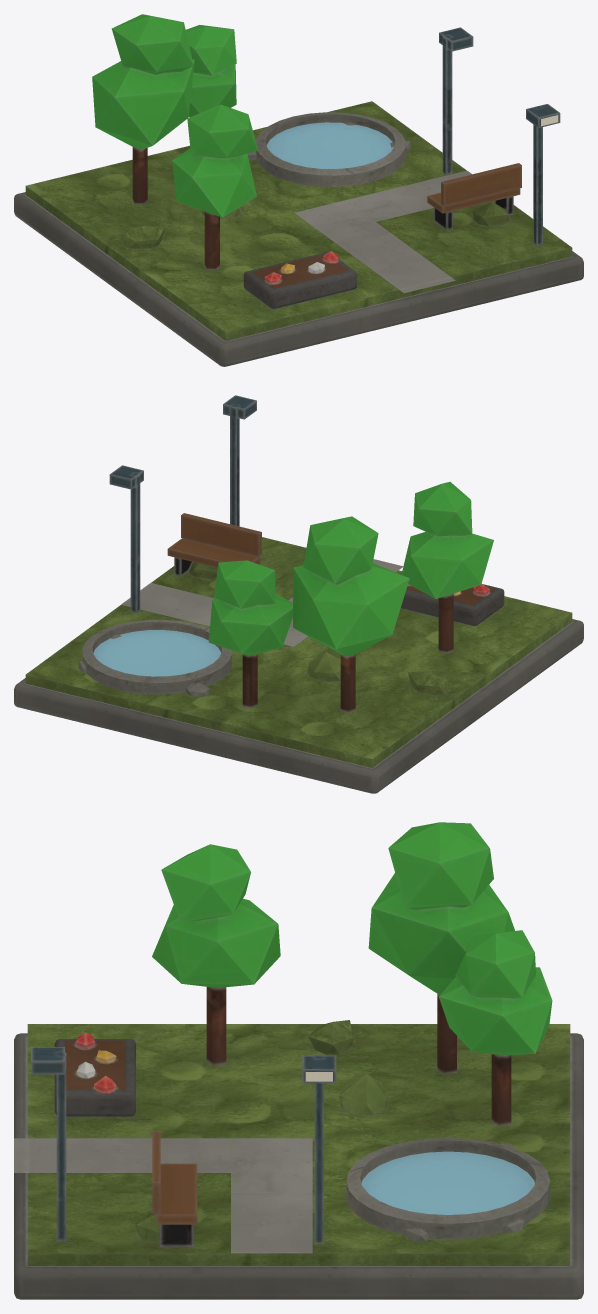
File: park_module.glb
The picture shows the model from 3 angles, top to bottom: view 1: azimuth 30°, elevation 25°; view 2: azimuth 150°, elevation 25°; view 3: azimuth 270°, elevation 25°; orthographic projection. The views are drawn at different scales.
Parts seen in each view (by area): view 1: te_park_module; view 2: te_park_module; view 3: te_park_module.
Part boxes in pixels (x1=…): te_park_module: x1=14, y1=14, x2=583, y2=366; te_park_module: x1=14, y1=395, x2=583, y2=793; te_park_module: x1=14, y1=822, x2=583, y2=1299.
Size of the model in its own units: 0.84 by 0.4807 by 0.84.
1 material, 1 textured.
